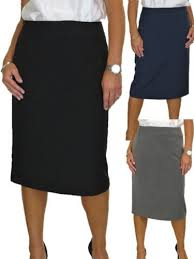F_tailored skirt: (5, 20, 118, 193), (129, 2, 192, 114), (124, 122, 191, 217)
